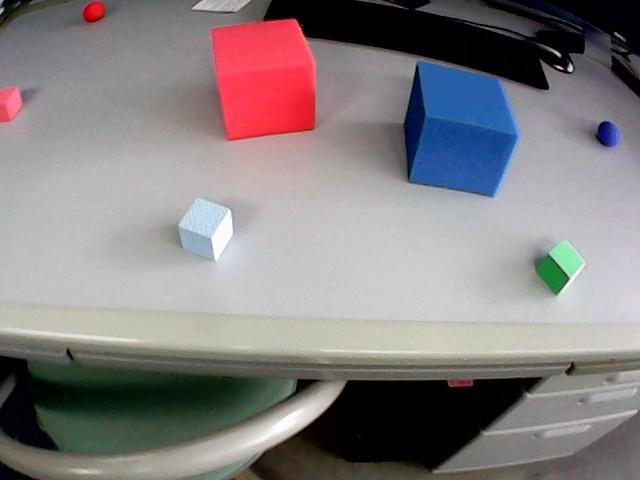blue_block: (404, 61, 518, 195), (178, 198, 232, 260)
red_block: (212, 19, 315, 139), (0, 87, 22, 121)
